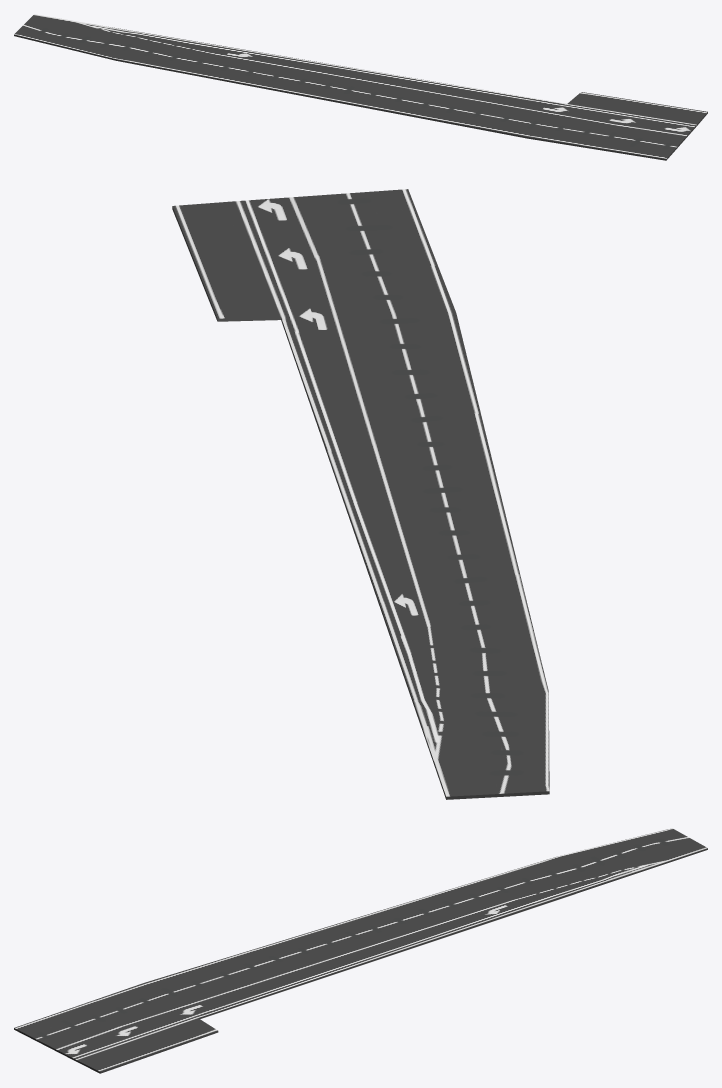
The model's file is levocska2.fbx.
The picture shows the model from 3 angles, top to bottom: view 1: azimuth 30°, elevation 25°; view 2: azimuth 150°, elevation 25°; view 3: azimuth 270°, elevation 25°; orthographic projection. The views are drawn at different scales.
Parts seen in each view (by area): view 1: road.002; view 2: road.002; view 3: road.002.
Part boxes in pixels (bbox=[...]): road.002: bbox=[14, 14, 707, 160]; road.002: bbox=[172, 189, 549, 799]; road.002: bbox=[14, 828, 707, 1073].
Size of the model in its own units: 7107 by 5907 by 20.
Materials: 1 (1 with a texture image).
